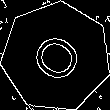O_SE: (23, 25, 89, 88)
